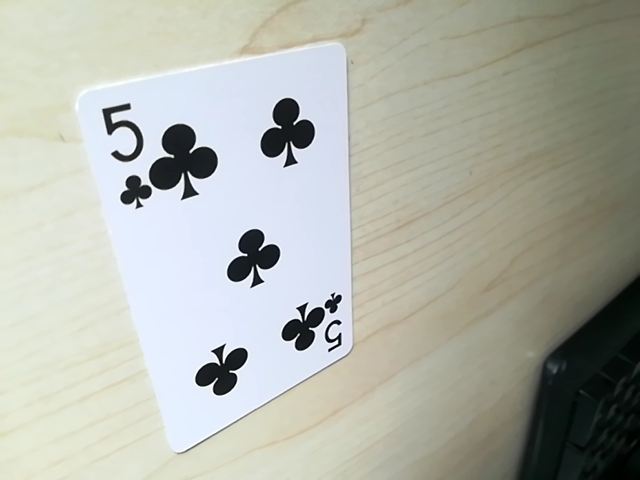mh 5: (96, 93, 156, 214), (307, 295, 348, 361)
